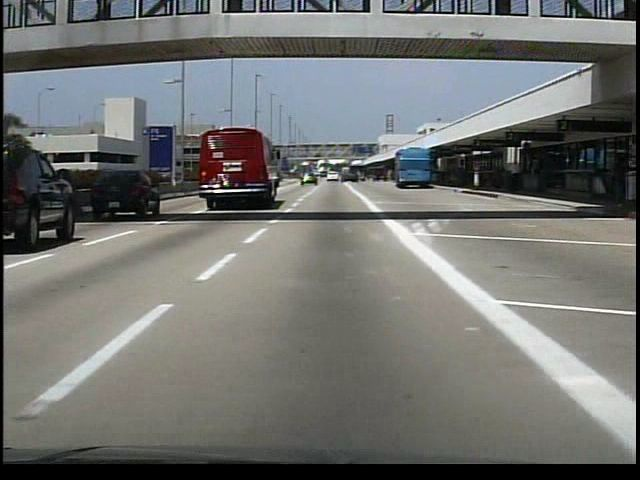person: (511, 159, 525, 192)
